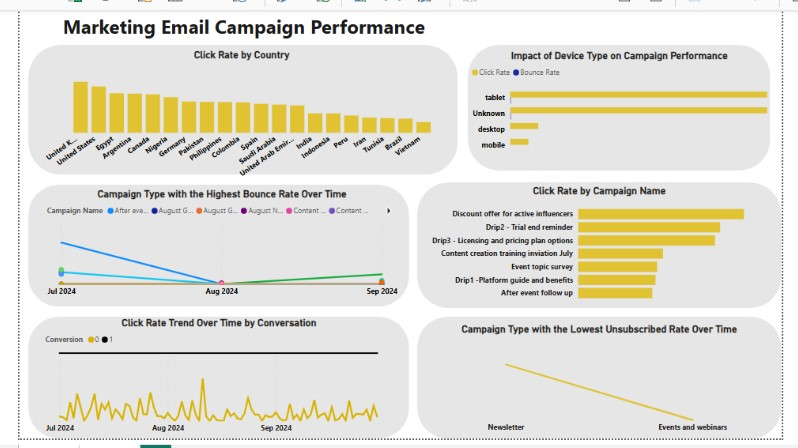

The page's visual inventory and layout, read from the dashboard file:
{"tool":"powerbi","page":{"name":"Page 2","canvas":[1280,720],"ordinal":1},"visuals":[{"type":"shape","box":[15,58.3,721.7,218.3],"z":0},{"type":"textbox","box":[38.3,0,676.7,58.3],"z":1000},{"type":"columnChart","fields":{"Y":["email_data.Click Rate"],"Category":["email_data.Country"]},"box":[38,58.5,671.7,229.8],"z":2000},{"type":"shape","box":[15,293.3,640,205],"z":3000},{"type":"lineChart","title":"Campaign Type with the Highest Bounce Rate Over Time","fields":{"Y":["email_data.Bounce Rate"],"Series":["email_data.Campaign Name"],"Category":["email_data.Date Sent.Variation.Date Hierarchy.Year","email_data.Date Sent.Variation.Date Hierarchy.Month"]},"box":[41,298.5,598.5,191.7],"z":4000},{"type":"shape","box":[668.3,290,611.7,211.7],"z":5000},{"type":"shape","box":[15,515,640,205],"z":6000},{"type":"lineChart","title":"Click Rate Trend Over Time by Conversation","fields":{"Series":["email_data.Conversion"],"Y":["email_data.Click Rate"],"Category":["email_data.Date Sent.Variation.Date Hierarchy.Year","email_data.Date Sent.Variation.Date Hierarchy.Quarter","email_data.Date Sent.Variation.Date Hierarchy.Month","email_data.Date Sent.Variation.Date Hierarchy.Day"]},"box":[38.3,515,593.3,205],"z":7000},{"type":"shape","box":[668.3,515,611.7,205],"z":8000},{"type":"lineChart","title":"Campaign Type with the Lowest Unsubscribed Rate Over Time","fields":{"Y":["email_data.Unsubscribed Rate"],"Category":["email_data.Campaign Type"]},"box":[686.7,526.7,575,193.3],"z":9000},{"type":"shape","box":[753.3,58.3,508.3,211.7],"z":10000},{"type":"clusteredBarChart","fields":{"Category":["email_data.Campaign Name"],"Y":["email_data.Click Rate"]},"box":[686.7,293.3,575,205],"z":11000},{"type":"clusteredBarChart","title":"Impact of Device Type on Campaign Performance","fields":{"Category":["email_data.Device"],"Y":["email_data.Click Rate","email_data.Bounce Rate"]},"box":[755,66.7,506.7,186.7],"z":12000}]}

Visuals, with their boxes in screenshot pixels (x1, y1, x2, y2), scaled from the page's 1280x720 canvas onto the 798x448 screenshot:
shape: [9,36,459,172]
textbox: [24,0,446,36]
columnChart - email_data.Click Rate x email_data.Country: [24,36,442,179]
shape: [9,182,408,310]
"Campaign Type with the Highest Bounce Rate Over Time" lineChart: [26,186,399,305]
shape: [417,180,797,312]
shape: [9,320,408,447]
"Click Rate Trend Over Time by Conversation" lineChart: [24,320,394,447]
shape: [417,320,797,447]
"Campaign Type with the Lowest Unsubscribed Rate Over Time" lineChart: [428,328,787,447]
shape: [470,36,787,168]
clusteredBarChart - email_data.Campaign Name x email_data.Click Rate: [428,182,787,310]
"Impact of Device Type on Campaign Performance" clusteredBarChart: [471,42,787,158]
